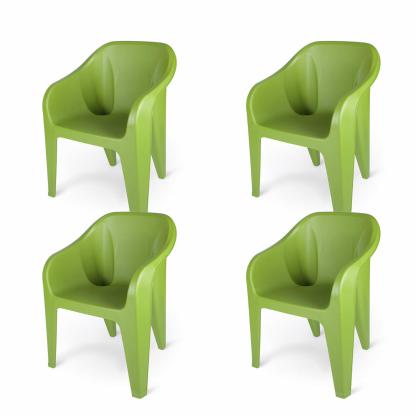chair: (221, 208, 388, 404), (22, 211, 180, 407), (26, 36, 178, 212), (240, 41, 390, 210)
